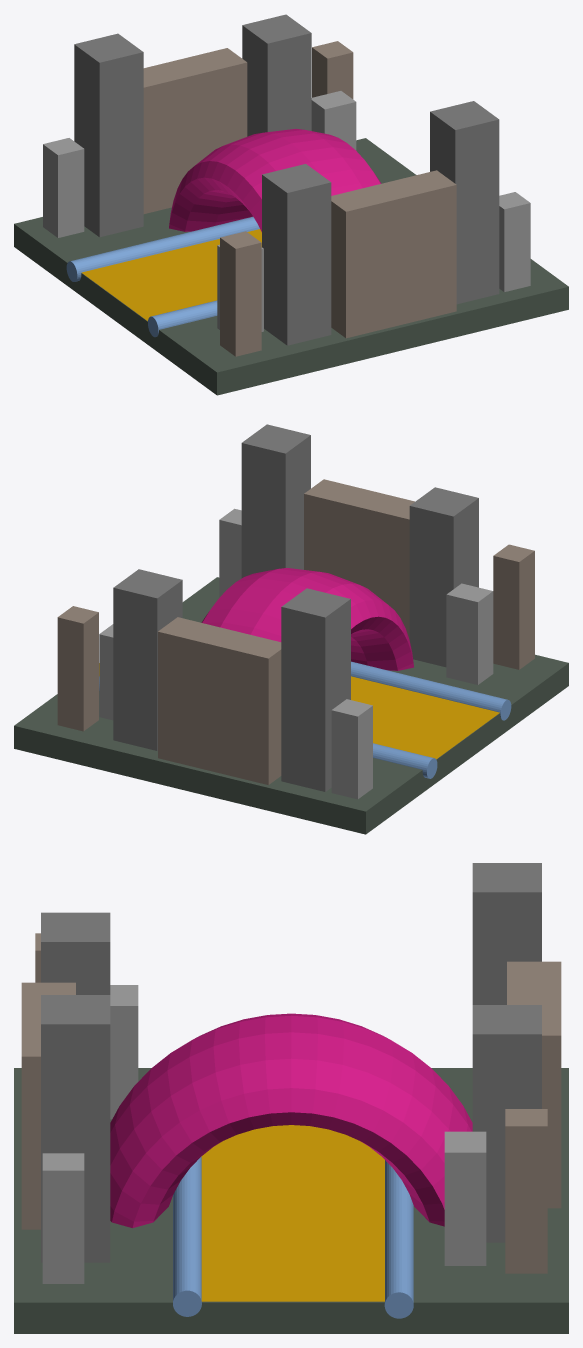
The model's file is preview_city.fbx.
The picture shows the model from 3 angles, top to bottom: view 1: azimuth 30°, elevation 25°; view 2: azimuth 150°, elevation 25°; view 3: azimuth 270°, elevation 25°; orthographic projection. The views are drawn at different scales.
Parts seen in each view (by area): view 1: Cube.001, Cube.003, Cube.013, Cube.012, Cube.006, Torus, Cube.002, Cube.009, Plane, Cube.007, Cube.011, Cube.004 (+5 smaller); view 2: Cube.001, Cube.012, Cube.013, Cube.003, Torus, Cube.006, Cube.002, Cube.009, Plane, Cube.007, Cube.008, Cube.005 (+5 smaller); view 3: Torus, Cube.001, Plane, Cube.002, Cube.009, Cube.013, Cube.008, Cube.012, Cube.010, Cube.004, Cube.003, Cube.006 (+3 smaller).
Boxes of the visible parts, x1,y1,x2,y2 form: Cube.001: (14,138,568,395); Cube.003: (331,170,456,338); Cube.013: (74,33,143,237); Cube.012: (143,48,247,213); Cube.006: (262,164,331,345); Torus: (169,129,381,231); Cube.002: (430,101,499,304); Cube.009: (242,14,311,136); Plane: (81,229,261,320); Cube.007: (220,231,261,356); Cube.011: (43,138,84,237); Cube.004: (499,192,530,292); Cube.001: (14,577,568,834); Cube.012: (158,617,281,784); Cube.013: (281,588,350,791); Cube.003: (304,479,414,639); Torus: (201,568,413,670); Cube.006: (409,487,478,667); Cube.002: (241,424,310,578); Cube.009: (113,569,182,750); Plane: (99,663,499,759); Cube.007: (493,544,534,669); Cube.008: (57,606,98,731); Cube.005: (446,583,493,684); Torus: (110,1013,472,1228); Cube.001: (14,1068,568,1333); Plane: (201,1125,384,1301); Cube.002: (41,995,110,1262); Cube.009: (472,1005,541,1242); Cube.013: (472,863,541,1004); Cube.008: (505,1109,547,1273); Cube.012: (507,961,561,1208); Cube.010: (444,1131,486,1265); Cube.004: (42,1153,84,1283); Cube.003: (21,982,75,1229); Cube.006: (41,912,110,994).
Size of the model in its own units: 16.27 by 8.6 by 16.
